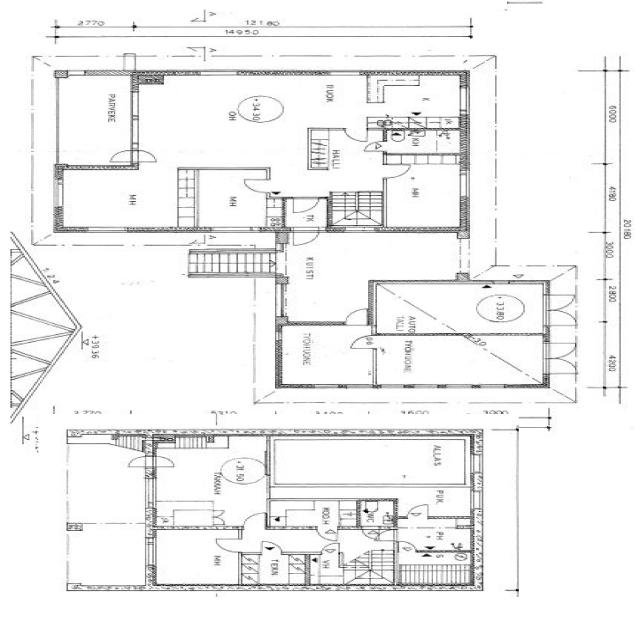door: (544, 341, 578, 358), (292, 228, 320, 248), (544, 358, 578, 374), (543, 310, 577, 326), (543, 295, 577, 310), (293, 197, 319, 213), (383, 164, 411, 178), (215, 538, 242, 552), (344, 309, 366, 325), (111, 150, 140, 162), (344, 128, 367, 143), (245, 514, 266, 530), (408, 504, 429, 520), (131, 150, 159, 162), (126, 456, 156, 467), (144, 456, 174, 467), (317, 526, 337, 542), (351, 336, 375, 348), (246, 180, 270, 192), (262, 541, 281, 555), (366, 141, 387, 152), (363, 527, 380, 540), (377, 532, 399, 542), (321, 543, 337, 555), (401, 541, 416, 553), (213, 517, 227, 524), (213, 511, 227, 517)
